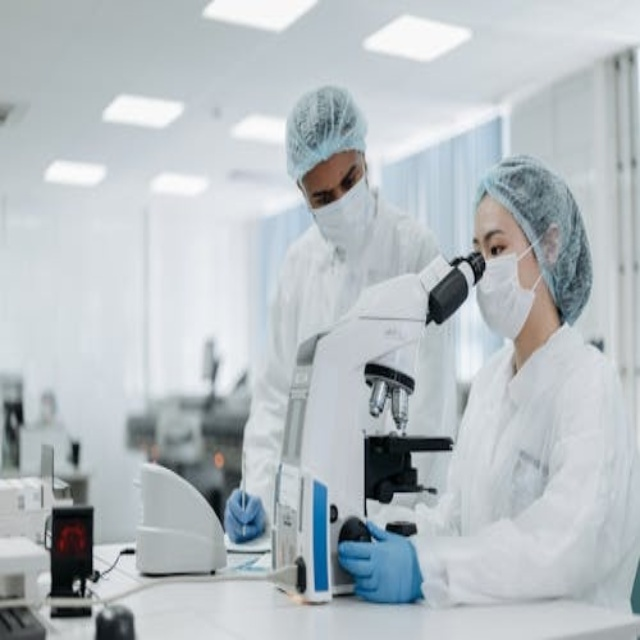Guantes: (340, 519, 424, 604), (225, 490, 266, 542)
Mascara: (475, 235, 546, 341), (306, 165, 373, 256)
Sin_gafas: (305, 153, 370, 207), (477, 228, 522, 266)
